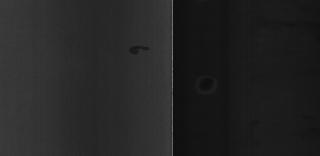oil spot: (125, 42, 154, 58)
